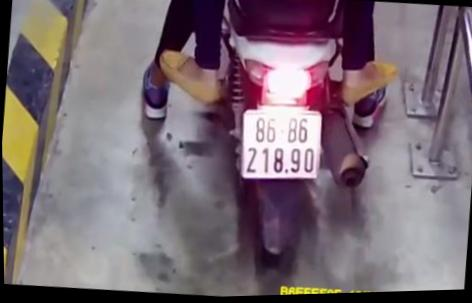LP: (236, 103, 326, 187)
